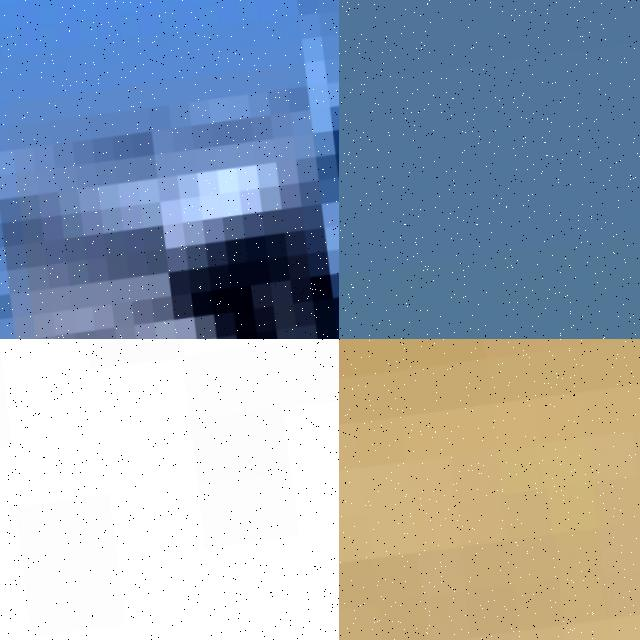0: (0, 0, 339, 339)
drone: (0, 339, 339, 640), (339, 339, 640, 640)
